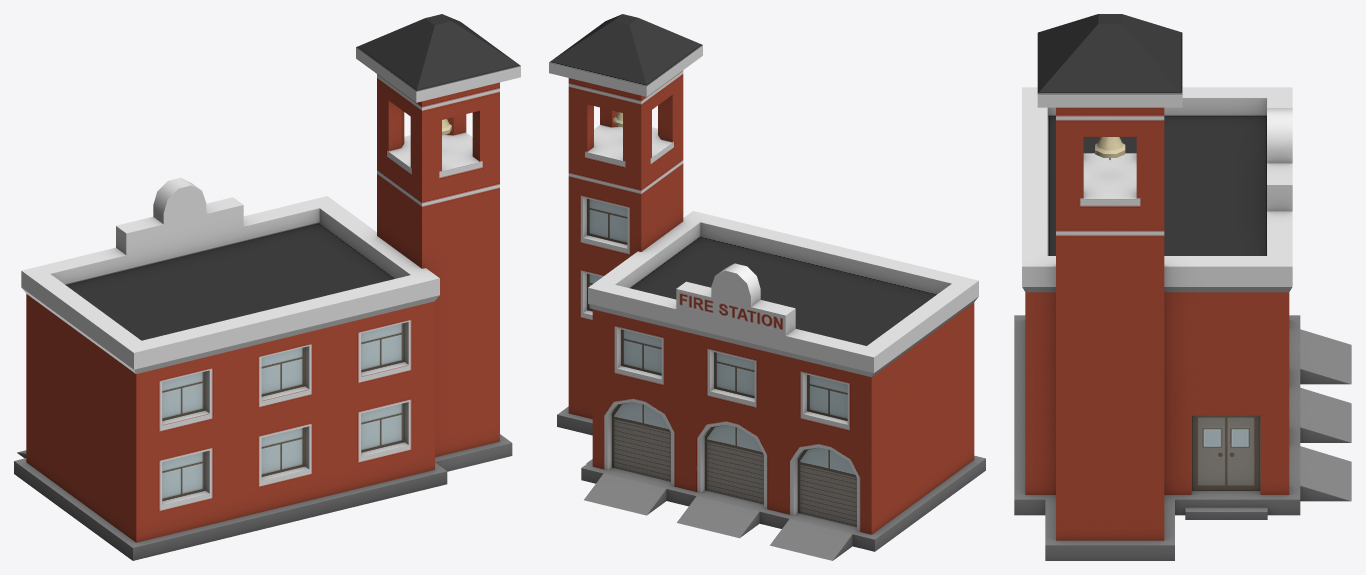
Rendered from HOS0610011.fbx.
The picture shows the model from 3 angles, left to right: view 1: azimuth 30°, elevation 25°; view 2: azimuth 150°, elevation 25°; view 3: azimuth 270°, elevation 25°; orthographic projection. The views are drawn at different scales.
Visible parts, largest first — view 1: smHOS0610011; view 2: smHOS0610011; view 3: smHOS0610011.
Part boxes in pixels (left/top/right/bottom): smHOS0610011: left=14, top=14, right=520, bottom=560; smHOS0610011: left=549, top=14, right=985, bottom=560; smHOS0610011: left=1014, top=14, right=1351, bottom=560.
Size of what is drawn, in the model's own units: 1862 by 1915 by 1137.
1 material, 1 textured.
